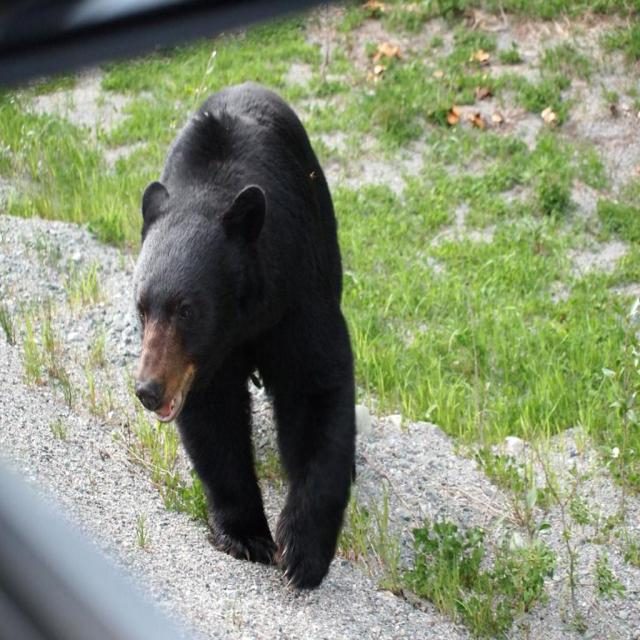Buffalo: (135, 80, 357, 594)
